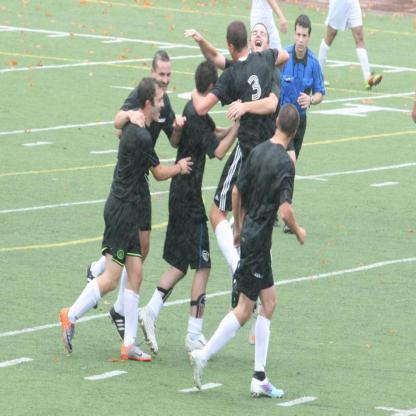face: (251, 25, 269, 57), (156, 60, 172, 95), (151, 85, 165, 123), (296, 24, 310, 53)
